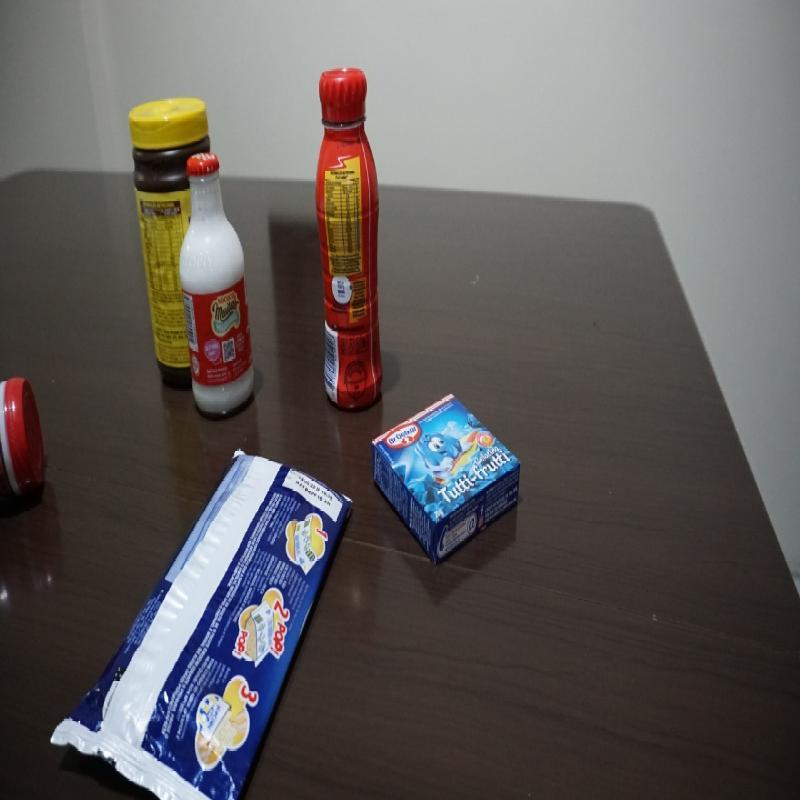Chocolate Milk: (313, 65, 386, 414)
Chocolate Powder: (126, 96, 216, 398)
Coconut Milk: (178, 151, 259, 418)
Gelatine: (369, 389, 523, 571)
Popcorn: (47, 445, 355, 800)
Yeast: (0, 372, 48, 508)
